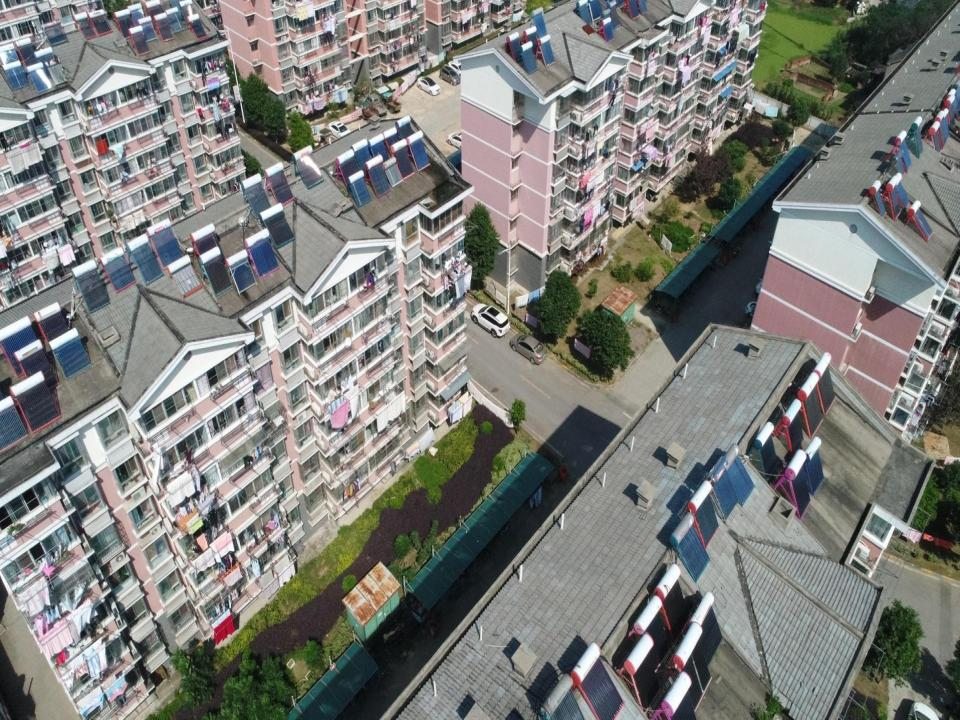car: (471, 303, 511, 338), (510, 332, 548, 365), (417, 75, 441, 96), (439, 66, 460, 86), (328, 121, 350, 139), (745, 301, 763, 317), (448, 60, 463, 78), (756, 282, 771, 294)
truck: (367, 92, 387, 116), (381, 91, 401, 114), (359, 101, 378, 123), (318, 128, 338, 147)
